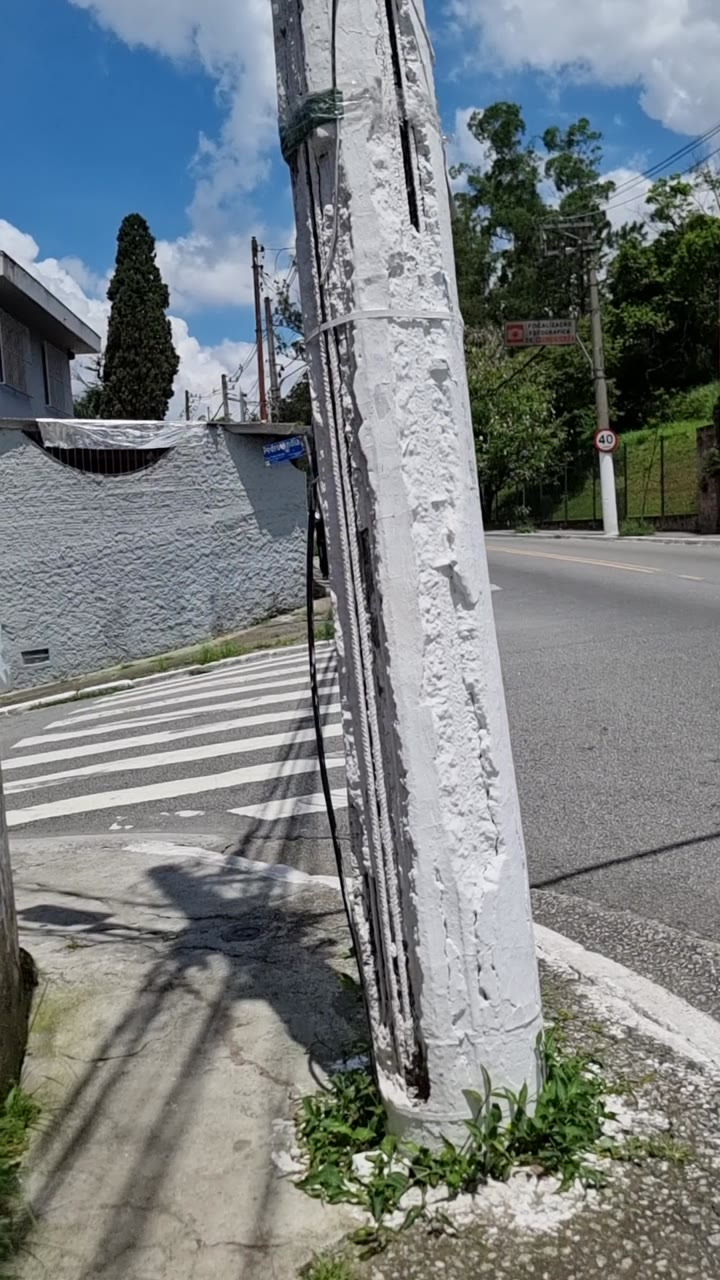obstaculo: (274, 0, 547, 1139)
